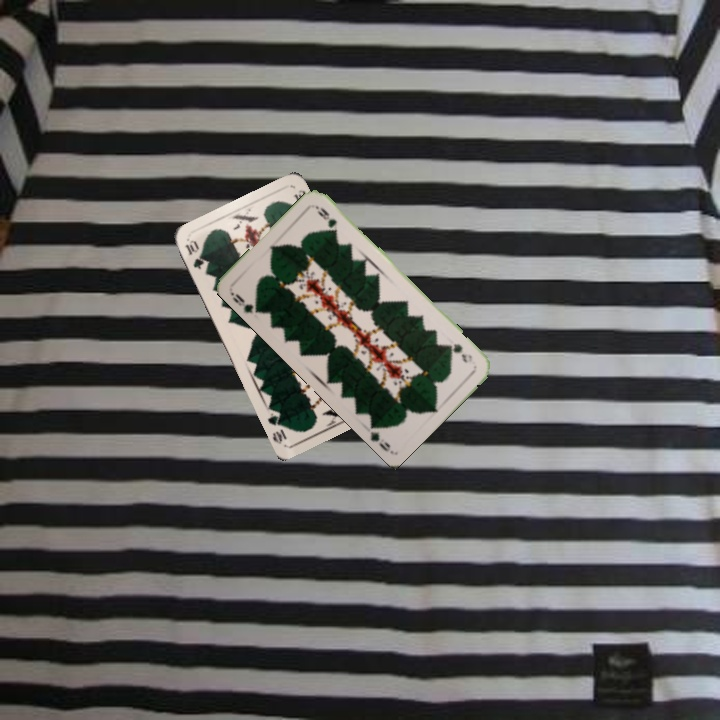G10: (181, 236, 207, 272)
G9: (227, 288, 264, 316), (445, 339, 475, 366)
